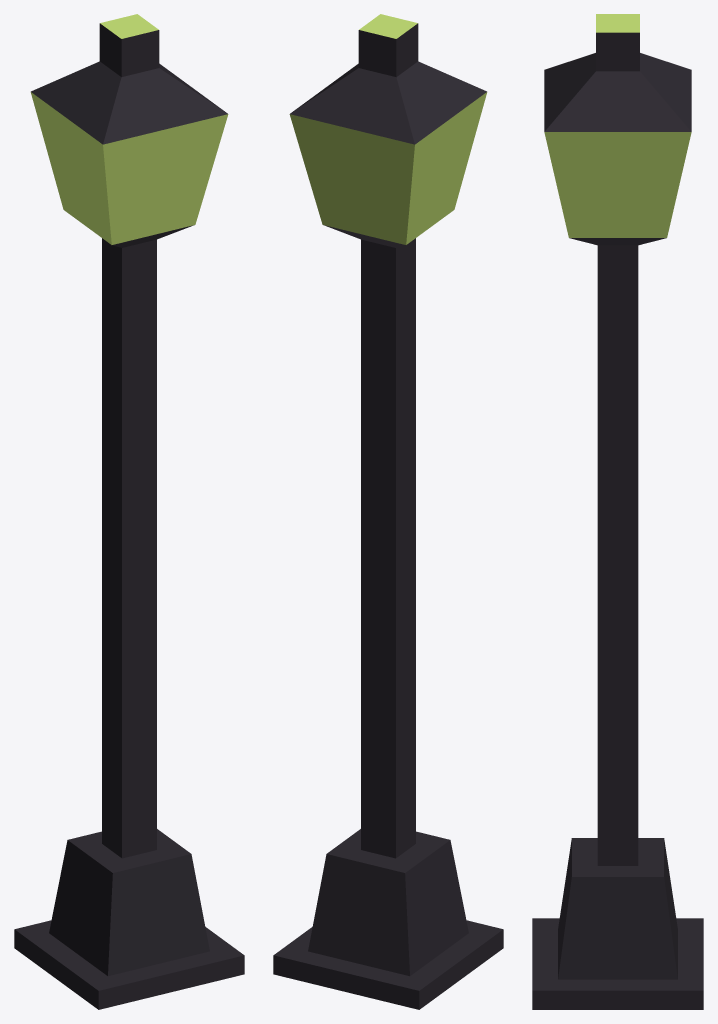
File: StreetLight.fbx
3 views of the same model, side by side, from view 1: azimuth 30°, elevation 25°; view 2: azimuth 150°, elevation 25°; view 3: azimuth 270°, elevation 25° (orthographic).
Visible parts, largest first — view 1: Cube.001; view 2: Cube.001; view 3: Cube.001.
Boxes of the visible parts, x1,y1,x2,y2 form: Cube.001: (14,14,244,1009); Cube.001: (273,14,503,1009); Cube.001: (532,14,703,1009).
Size of the model in its own units: 80 by 490 by 80.
